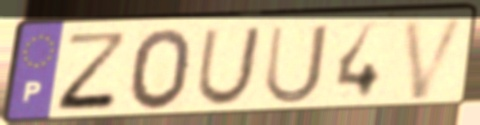4: (333, 20, 386, 102)
O: (127, 26, 195, 114)
U: (193, 24, 266, 108), (261, 21, 332, 107)
V: (400, 14, 471, 103)
Z: (54, 29, 133, 114)
